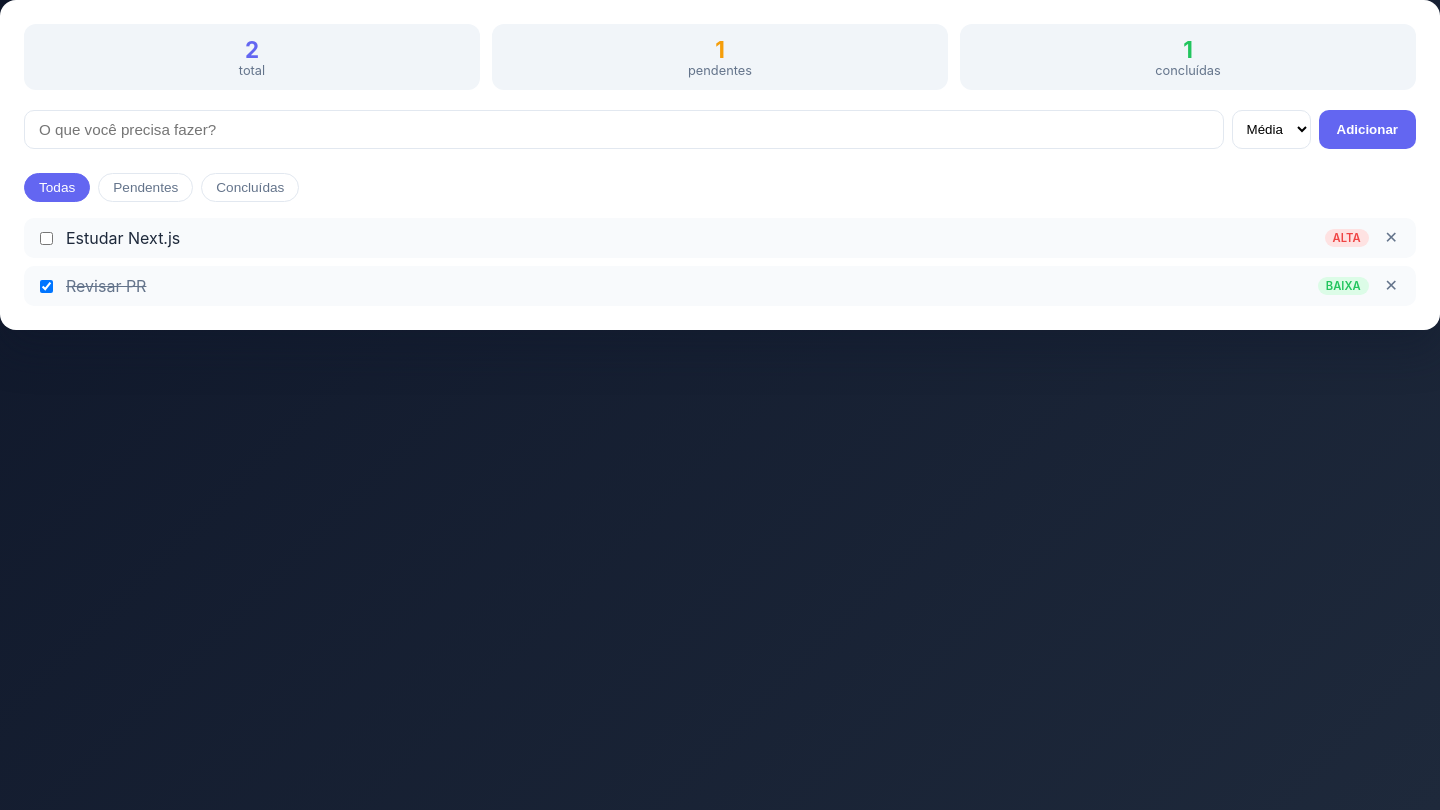
Test: ListaTarefas › adiciona uma nova tarefa à lista e atualiza o resumo
Type "Fazer compras" into the field named "Nova tarefa" at (624, 130), box [24, 110, 1224, 149]
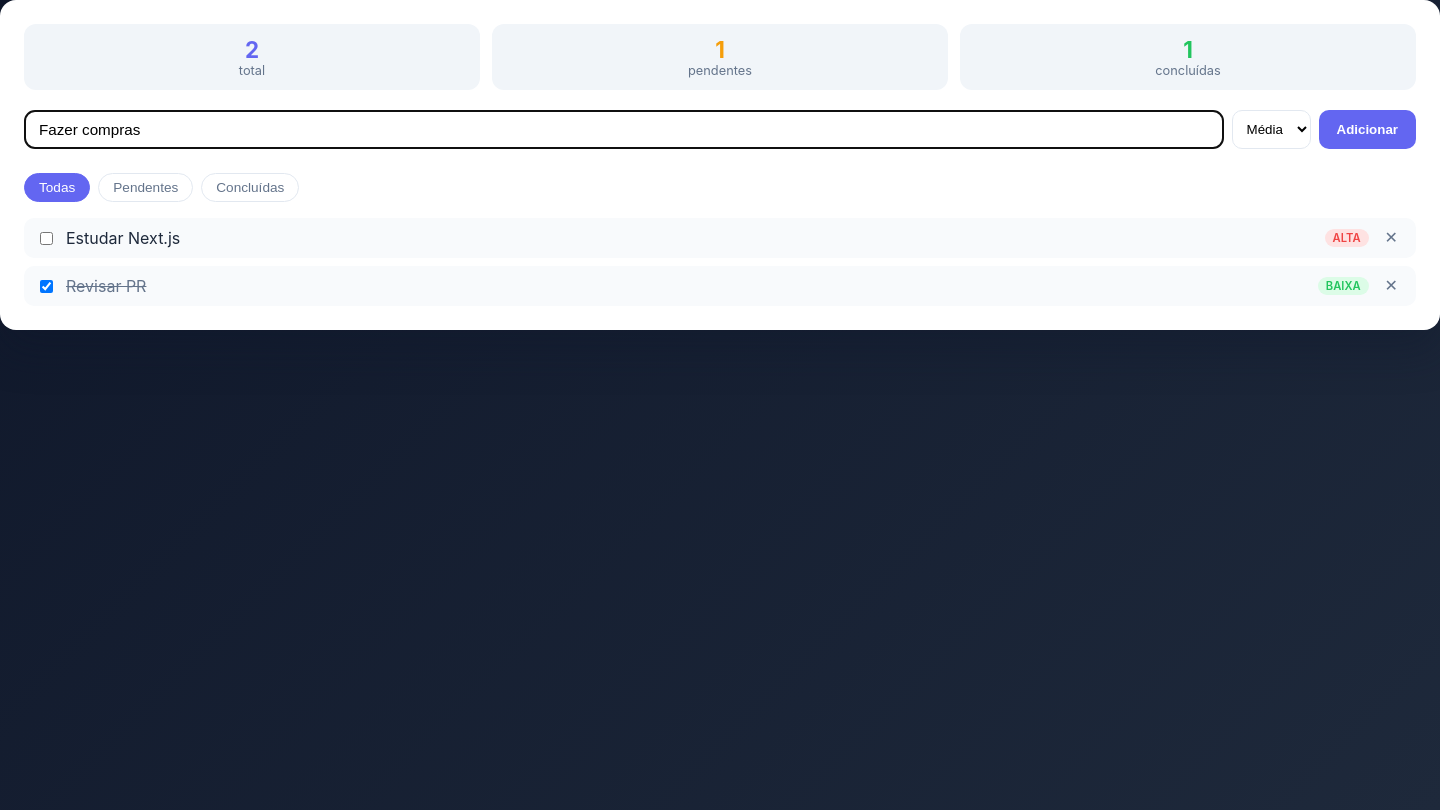
Click the button "Adicionar" at (1367, 130), box [1318, 110, 1416, 149]
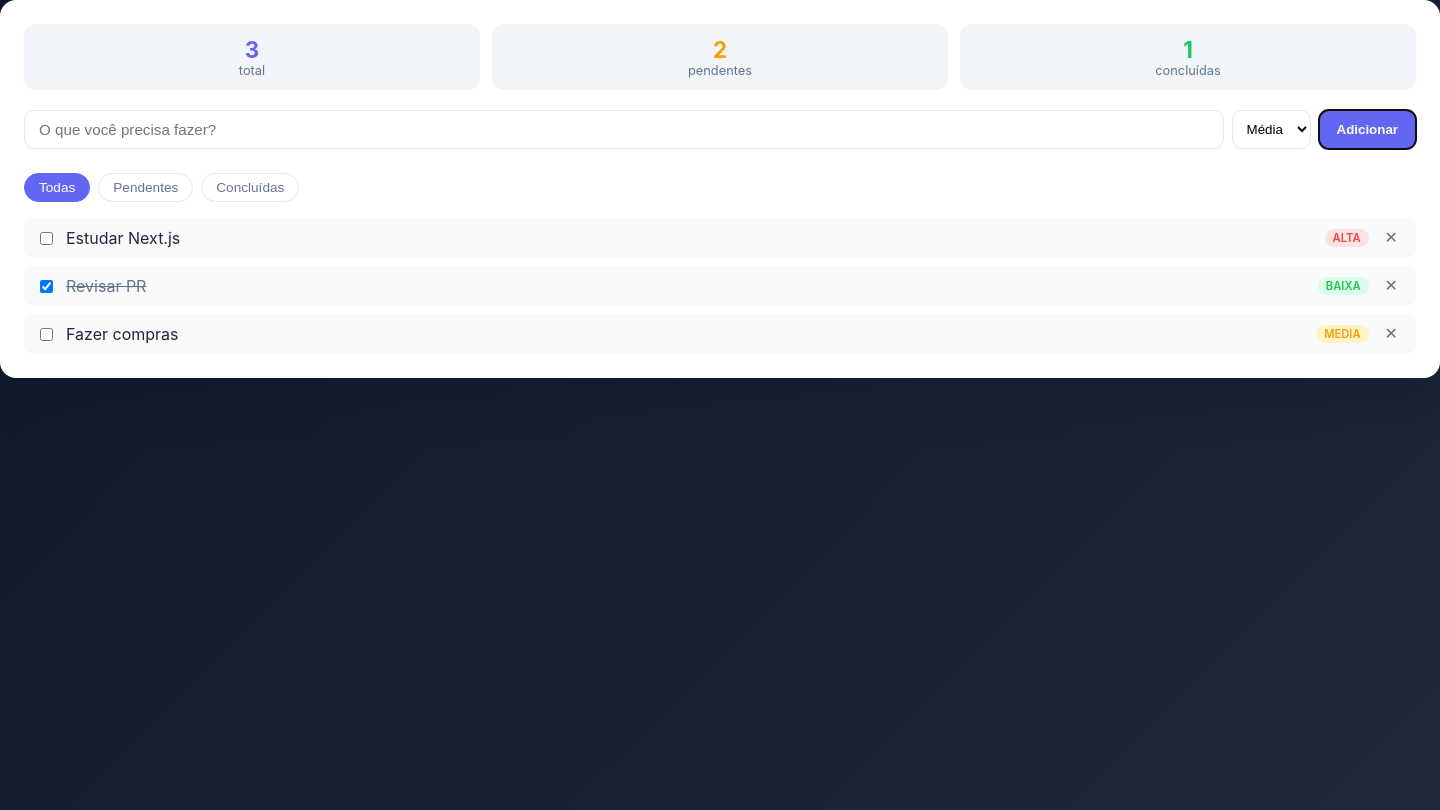
Check: the text "Fazer compras" is shown, box [66, 324, 178, 344]
Check: the element with test id "stat-total" shows "3", box [245, 36, 259, 63]
